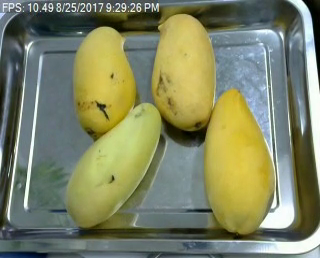Mango: (66, 102, 162, 227), (204, 89, 276, 236), (150, 13, 216, 131), (72, 25, 137, 139)
